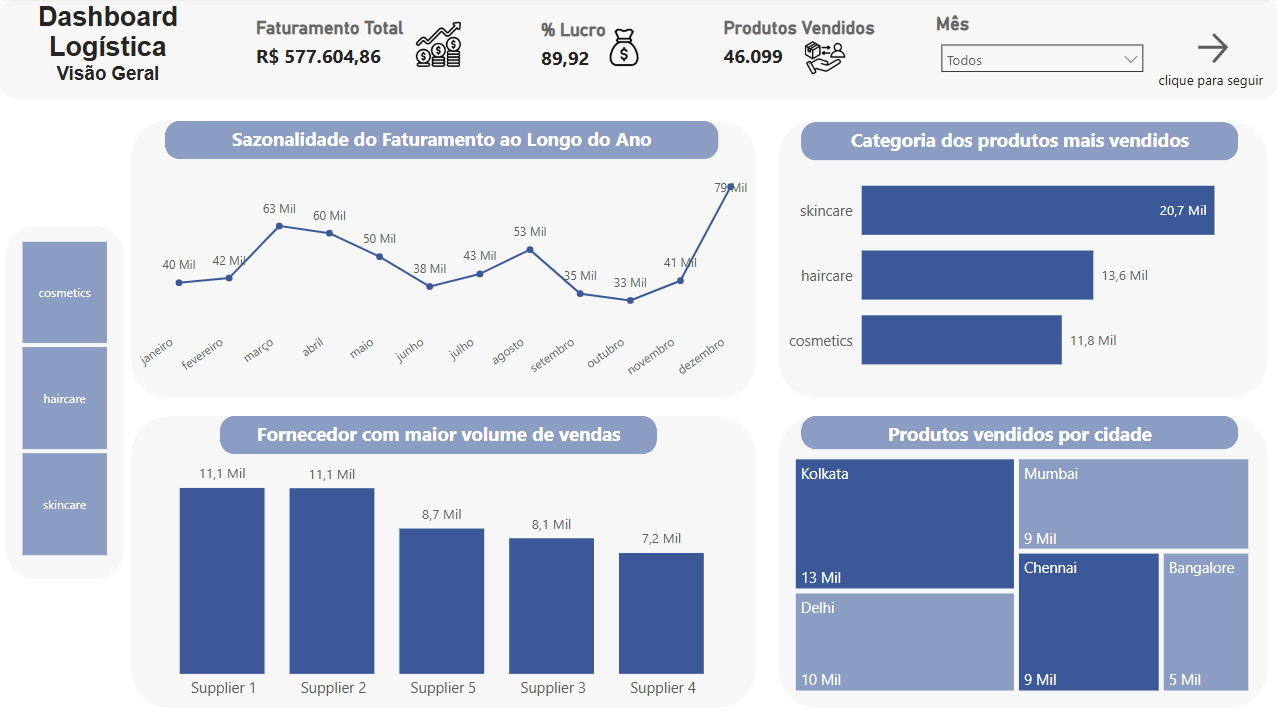

Layout of this report page (visuals, bound fields, positions):
{"tool":"powerbi","page":{"name":"resumo geral","canvas":[1280,720],"ordinal":0},"visuals":[{"type":"shape","box":[10,227.6,118.2,352],"z":0},{"type":"shape","box":[778.7,416.7,486.4,291.1],"z":1000},{"type":"shape","box":[134.3,416.7,622,291.1],"z":2000},{"type":"shape","box":[778.7,123.2,486.4,276.2],"z":3000},{"type":"shape","box":[134.3,123.2,622,276.2],"z":4000},{"type":"shape","box":[0,0,1280,103.2],"z":5000},{"type":"multiRowCard","title":"Faturamento Total","fields":{"Values":["Medidas.fat_total"]},"box":[253.8,19.9,233.9,63.4],"z":6000},{"type":"multiRowCard","title":"Produtos Vendidos","fields":{"Values":["Medidas.qtd_produtos_vendidos"]},"box":[719,19.9,255,65.9],"z":7000},{"type":"slicer","title":"Mês","fields":{"Values":["Calendario.Nome mes"]},"box":[930.5,16.2,221.4,73.4],"z":8000},{"type":"multiRowCard","title":"% Lucro","fields":{"Values":["Medidas.% lucro"]},"box":[537.4,22.4,143.1,63.4],"z":9000},{"type":"clusteredBarChart","title":"Categoria dos produtos mais vendidos","fields":{"Category":["products.product_type"],"Y":["Medidas.qtd_produtos_vendidos"]},"box":[778.7,149.3,486.4,250],"z":10000},{"type":"treemap","title":"Produtos vendidos por cidade","fields":{"Group":["logistics.location"],"Values":["Medidas.qtd_produtos_vendidos"]},"box":[791.2,455.3,460.3,240.1],"z":11000},{"type":"lineChart","title":"Sazonalidade do Faturamento ao Longo do Ano","fields":{"Category":["Calendario.Nome mes"],"Y":["Medidas.fat_total"]},"box":[134.3,171.7,622,227.6],"z":12000},{"type":"clusteredColumnChart","title":"Fornecedor com maior volume de vendas","fields":{"Category":["logistics.supplier_name"],"Y":["Medidas.qtd_produtos_vendidos"]},"box":[134.3,450.3,622,257.5],"z":13000},{"type":"textbox","box":[0,0,222.7,103.2],"z":14000},{"type":"shape","box":[167.9,123.2,551.1,38.6],"z":15000},{"type":"textbox","box":[167.9,123.2,551.1,38.6],"z":16000},{"type":"shape","box":[801.1,124.4,435.4,38.6],"z":17000},{"type":"shape","box":[222.7,416.7,435.4,38.6],"z":18000},{"type":"shape","box":[801.1,416.7,435.4,33.6],"z":19000},{"type":"textbox","box":[801.1,124.4,435.4,38.6],"z":20000},{"type":"textbox","box":[222.7,416.7,435.4,38.6],"z":21000},{"type":"textbox","box":[801.1,416.7,435.4,38.6],"z":22000},{"type":"image","box":[393.1,19.9,94.5,54.7],"z":23000},{"type":"image","box":[583.4,26.1,83.3,48.5],"z":24000},{"type":"image","box":[756.3,34.8,138.1,51],"z":25000},{"type":"slicer","fields":{"Values":["products.product_type"]},"box":[0,236.4,134.3,325.9],"z":26000},{"type":"actionButton","box":[1190.5,31.1,74.6,39.8],"z":27000},{"type":"textbox","box":[1151.9,68.4,128.1,28.6],"z":28000}]}

Visuals, with their boxes in screenshot pixels (x1, y1, x2, y2), scaled from the page's 1280x720 canvas onto the 1277x717 screenshot:
shape: bbox=[10, 227, 128, 577]
shape: bbox=[777, 415, 1262, 705]
shape: bbox=[134, 415, 755, 705]
shape: bbox=[777, 123, 1262, 398]
shape: bbox=[134, 123, 755, 398]
shape: bbox=[0, 0, 1276, 103]
"Faturamento Total" multiRowCard: bbox=[253, 20, 487, 83]
"Produtos Vendidos" multiRowCard: bbox=[717, 20, 972, 85]
"Mês" slicer: bbox=[928, 16, 1149, 89]
"% Lucro" multiRowCard: bbox=[536, 22, 679, 85]
"Categoria dos produtos mais vendidos" clusteredBarChart: bbox=[777, 149, 1262, 398]
"Produtos vendidos por cidade" treemap: bbox=[789, 453, 1249, 693]
"Sazonalidade do Faturamento ao Longo do Ano" lineChart: bbox=[134, 171, 755, 398]
"Fornecedor com maior volume de vendas" clusteredColumnChart: bbox=[134, 448, 755, 705]
textbox: bbox=[0, 0, 222, 103]
shape: bbox=[168, 123, 717, 161]
textbox: bbox=[168, 123, 717, 161]
shape: bbox=[799, 124, 1234, 162]
shape: bbox=[222, 415, 657, 453]
shape: bbox=[799, 415, 1234, 448]
textbox: bbox=[799, 124, 1234, 162]
textbox: bbox=[222, 415, 657, 453]
textbox: bbox=[799, 415, 1234, 453]
image: bbox=[392, 20, 486, 74]
image: bbox=[582, 26, 665, 74]
image: bbox=[755, 35, 892, 85]
slicer - products.product_type: bbox=[0, 235, 134, 560]
actionButton: bbox=[1188, 31, 1262, 71]
textbox: bbox=[1149, 68, 1276, 97]
